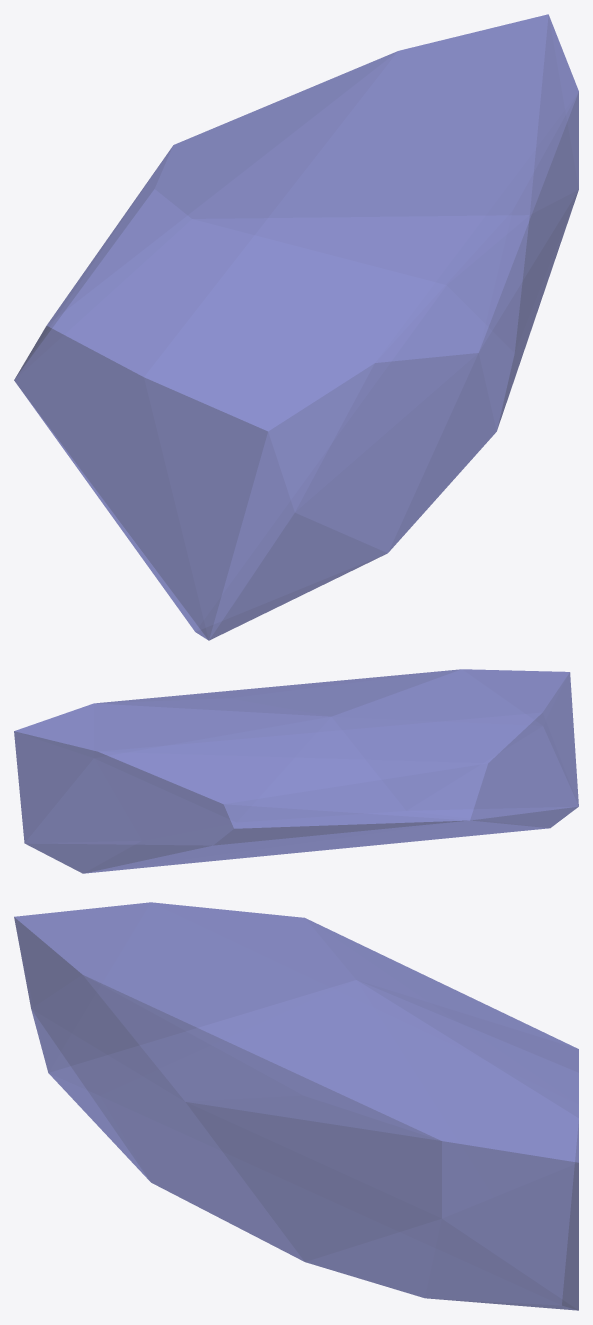
3 views of the same model, one above another, from view 1: azimuth 30°, elevation 25°; view 2: azimuth 150°, elevation 25°; view 3: azimuth 270°, elevation 25° (orthographic). The views are drawn at different scales.
Visible parts, largest first — view 1: Shape_IndexedFaceSet.028_Shape_IndexedFaceSet.9114; view 2: Shape_IndexedFaceSet.028_Shape_IndexedFaceSet.9114; view 3: Shape_IndexedFaceSet.028_Shape_IndexedFaceSet.9114.
Boxes of the visible parts, box(x1,y1,x2,y2) form: Shape_IndexedFaceSet.028_Shape_IndexedFaceSet.9114: box(14, 14, 578, 640); Shape_IndexedFaceSet.028_Shape_IndexedFaceSet.9114: box(14, 669, 578, 873); Shape_IndexedFaceSet.028_Shape_IndexedFaceSet.9114: box(14, 902, 578, 1310).
Bounding box in the file's own units: 0.1079 × 0.036 × 0.0989.
